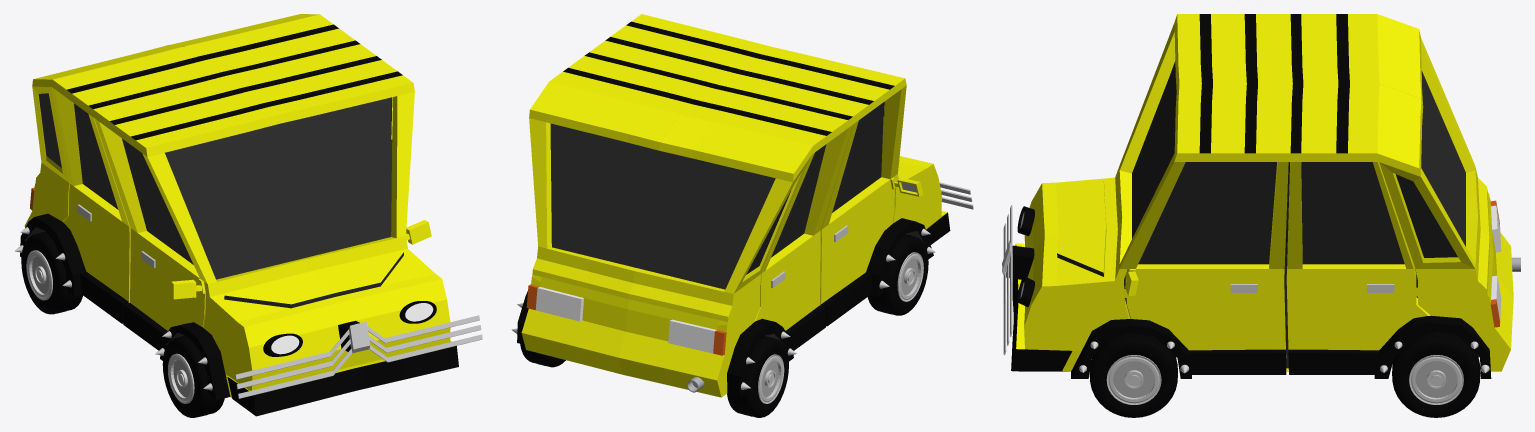
3 views of the same model, side by side, from view 1: azimuth 30°, elevation 25°; view 2: azimuth 150°, elevation 25°; view 3: azimuth 270°, elevation 25° (orthographic). The views are drawn at different scales.
Parts seen in each view (by area): view 1: BODY47A, WHEEL.004, WHEEL.001; view 2: BODY47A, WHEEL.004, WHEEL.001, WHEEL.002; view 3: BODY47A, WHEEL.002, WHEEL.003.
Boxes of the visible parts, box(x1,y1,x2,y2) form: BODY47A: box(14, 14, 482, 416); WHEEL.004: box(21, 231, 82, 314); WHEEL.001: box(162, 335, 224, 417); BODY47A: box(511, 14, 973, 397); WHEEL.004: box(727, 336, 788, 417); WHEEL.001: box(867, 234, 928, 315); WHEEL.002: box(520, 343, 565, 367); BODY47A: box(1002, 14, 1513, 378); WHEEL.002: box(1392, 331, 1480, 417); WHEEL.003: box(1089, 333, 1177, 417).
Size of the model in its own units: 146 by 134 by 229.
